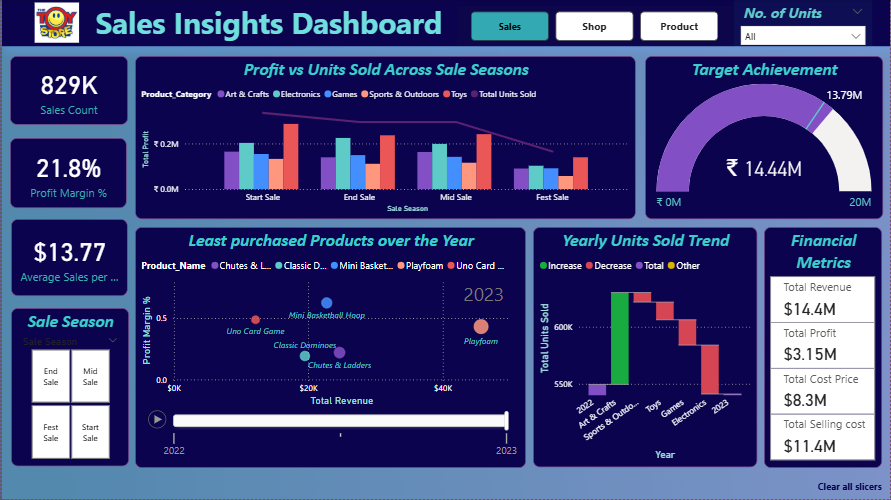

Layout of this report page (visuals, bound fields, positions):
{"tool":"powerbi","page":{"name":"Sales","canvas":[1280,720],"ordinal":5},"visuals":[{"type":"textbox","box":[0,0,1279.8,68],"z":0},{"type":"actionButton","box":[1162.2,683.1,117.6,36.9],"z":1000},{"type":"pageNavigator","box":[654.8,9.9,398.3,58.1],"z":2000},{"type":"slicer","title":"No. of Units","fields":{"Values":["sales.Units"]},"box":[1054.1,0,198.7,67.7],"z":3000},{"type":"slicer","title":"Sale Season","fields":{"Values":["sales.Sale Season"]},"box":[13,445,169.9,227.5],"z":4000},{"type":"gauge","title":"Target Achievement","fields":{"MaxValue":["Measure Table.Target Revenue"],"Y":["Measure Table.Total Revenue"],"TargetValue":["Measure Table.ParallelPeriod"]},"box":[925.9,82.1,342.7,234.7],"z":5000},{"type":"scatterChart","title":"Least purchased Products over the Year","fields":{"X":["Measure Table.Total Revenue"],"Series":["products.Product_Name"],"Size":["Measure Table.Total Revenue"],"Y":["Measure Table.Profit Margin %"],"Play":["Calendar.Year"]},"box":[191.5,328.3,563,347],"z":6000},{"type":"card","fields":{"Values":["Measure Table.Order Count"]},"box":[11.5,82.1,169.9,99.4],"z":7000},{"type":"cardVisual","title":"Financial Metrics","fields":{"Data":["Measure Table.Total Revenue","Measure Table.Total Profit","Measure Table.Total Cost Price","Measure Table.Total Selling cost"]},"box":[1097.3,328.3,169.9,347],"z":8000},{"type":"card","fields":{"Values":["Measure Table.Profit Margin"]},"box":[11.5,200.2,168.5,100.8],"z":9000},{"type":"lineClusteredColumnComboChart","title":"Profit vs Units Sold Across Sale Seasons","fields":{"Y":["Measure Table.Total Profit"],"Category":["sales.Sale Season"],"Series":["products.Product_Category"],"Y2":["Measure Table.Total Units Sold"]},"box":[191.5,82.1,721.4,234.7],"z":10000},{"type":"image","box":[0,0,157.3,68],"z":11000},{"type":"waterfallChart","title":"Yearly Units Sold Trend","fields":{"Category":["Calendar.Year"],"Y":["Measure Table.Total Units Sold"],"Breakdown":["products.Product_Category"]},"box":[764.6,328.3,322.6,345.6],"z":12000},{"type":"card","fields":{"Values":["Measure Table.Average Sale"]},"box":[13,316.8,168.5,110.9],"z":13000}]}

Visuals, with their boxes in screenshot pixels (x1, y1, x2, y2), scaled from the page's 1280x720 canvas onto the 891x500 screenshot:
textbox: <box>0,0,890,47</box>
actionButton: <box>809,474,890,499</box>
pageNavigator: <box>456,7,733,47</box>
"No. of Units" slicer: <box>734,0,872,47</box>
"Sale Season" slicer: <box>9,309,127,467</box>
"Target Achievement" gauge: <box>645,57,883,220</box>
"Least purchased Products over the Year" scatterChart: <box>133,228,525,469</box>
card - Measure Table.Order Count: <box>8,57,126,126</box>
"Financial Metrics" cardVisual: <box>764,228,882,469</box>
card - Measure Table.Profit Margin: <box>8,139,125,209</box>
"Profit vs Units Sold Across Sale Seasons" lineClusteredColumnComboChart: <box>133,57,635,220</box>
image: <box>0,0,109,47</box>
"Yearly Units Sold Trend" waterfallChart: <box>532,228,757,468</box>
card - Measure Table.Average Sale: <box>9,220,126,297</box>
